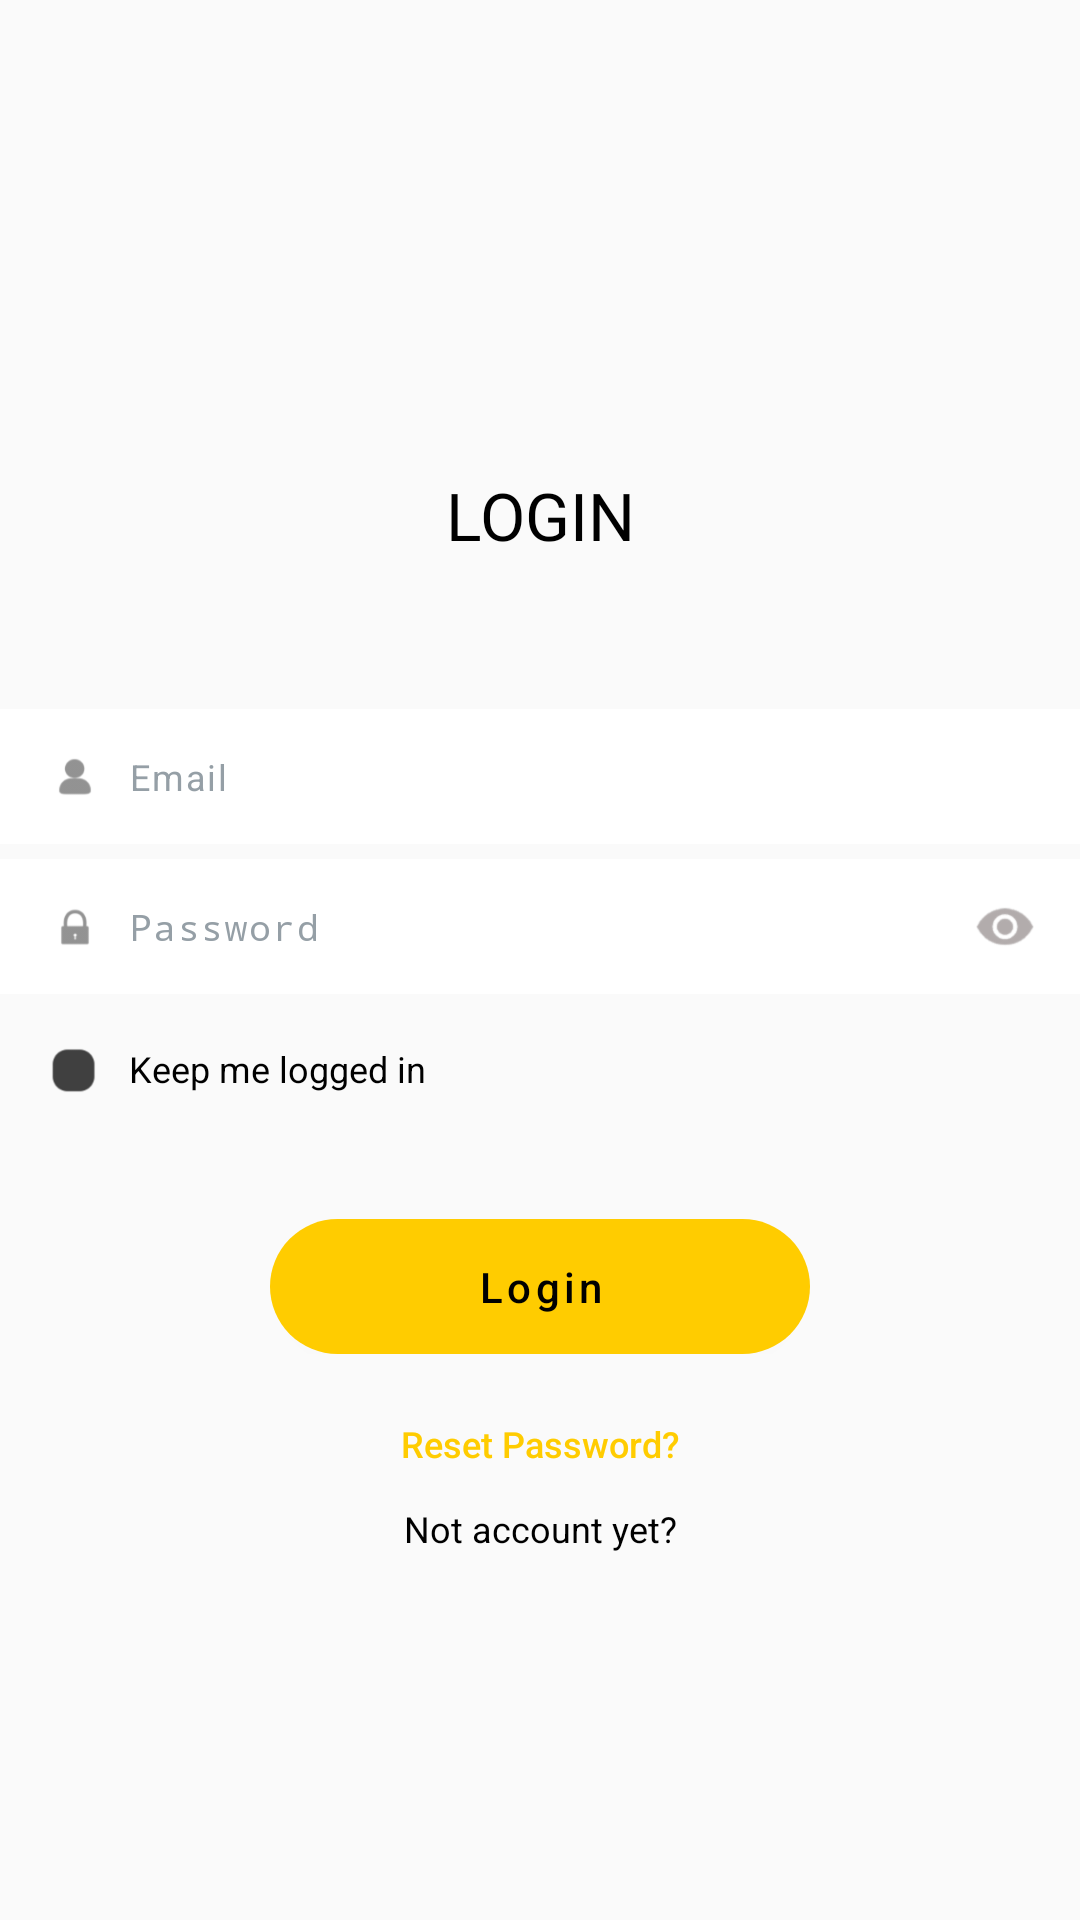

Icons on this 1080 x 1920 Android screen, each with the point to tap as (x=x, y=y):
account: (x=75, y=777)
hidepass: (x=1005, y=926)
